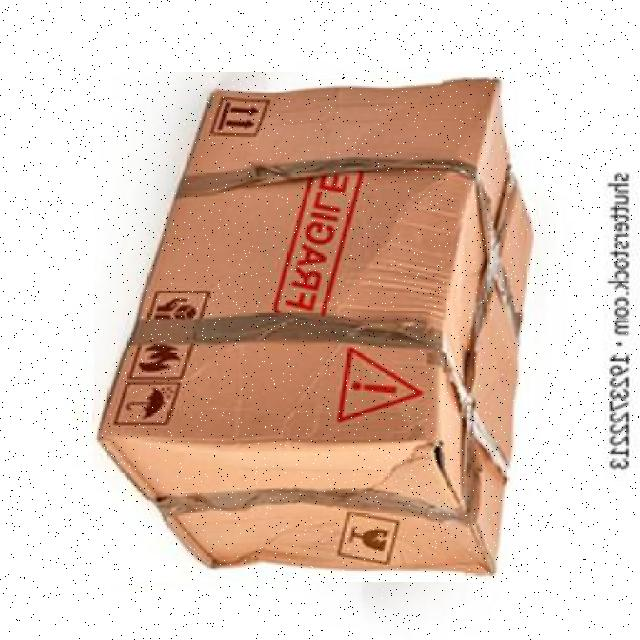defect: (94, 72, 534, 582)
